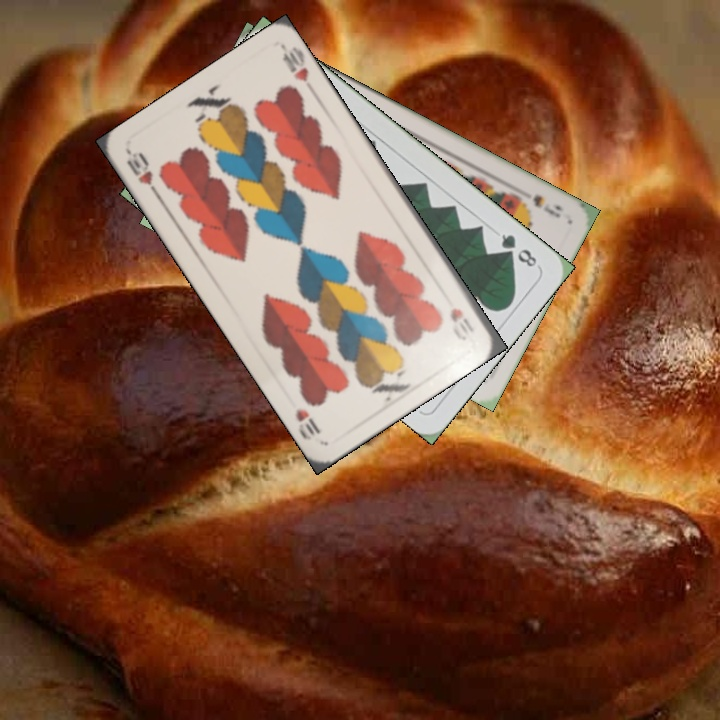G8: (497, 230, 540, 270)
H10: (122, 147, 162, 200), (446, 303, 477, 336)
S9: (529, 190, 567, 221)
